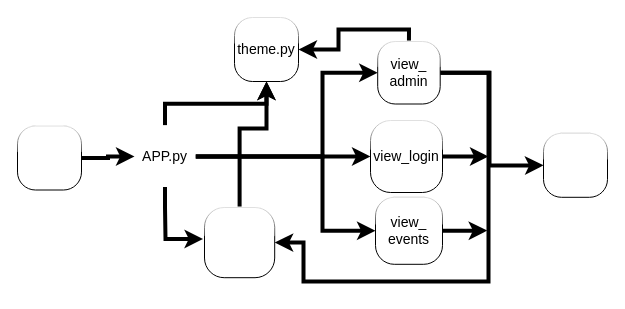
The diagram is 625 pixels wide and 309 high, and some of its shapes have lost their labels. The shapes that lost their labels are listed below. From the top down, each one's centre as x and y in pixels, then its label:
At point (49, 157): "main.py".
At point (575, 164): "store.py".
At point (239, 242): "widgets.py".
